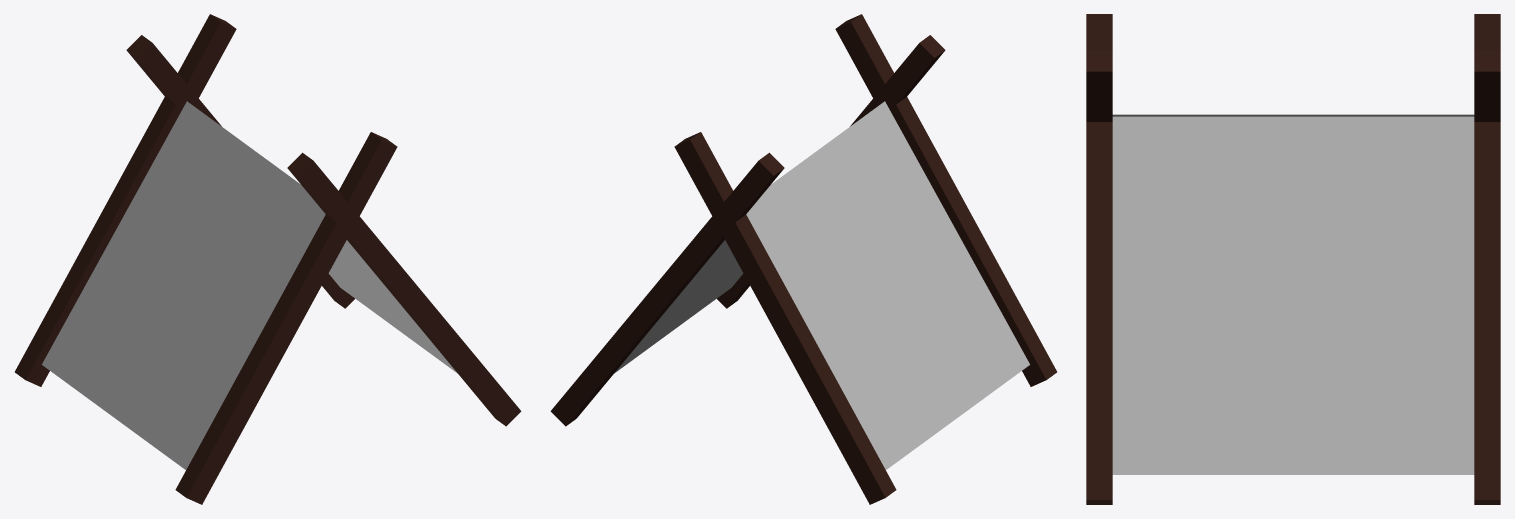
File: RaiderTent.fbx
3 views of the same model, side by side, from view 1: azimuth 30°, elevation 25°; view 2: azimuth 150°, elevation 25°; view 3: azimuth 270°, elevation 25° (orthographic). The views are drawn at different scales.
Parts seen in each view (by area): view 1: Cube.037; view 2: Cube.037; view 3: Cube.037.
Part boxes in pixels (bbox=[...]): Cube.037: bbox=[15, 14, 521, 504]; Cube.037: bbox=[550, 14, 1056, 504]; Cube.037: bbox=[1086, 14, 1500, 504].
Size of the model in its own units: 189 by 173 by 168.
